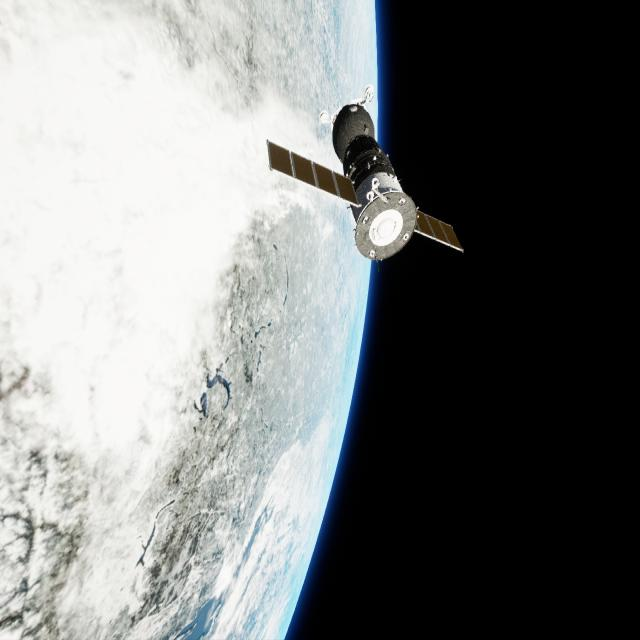Satellites revolving around earth: (2, 1, 380, 638), (265, 84, 465, 267)
